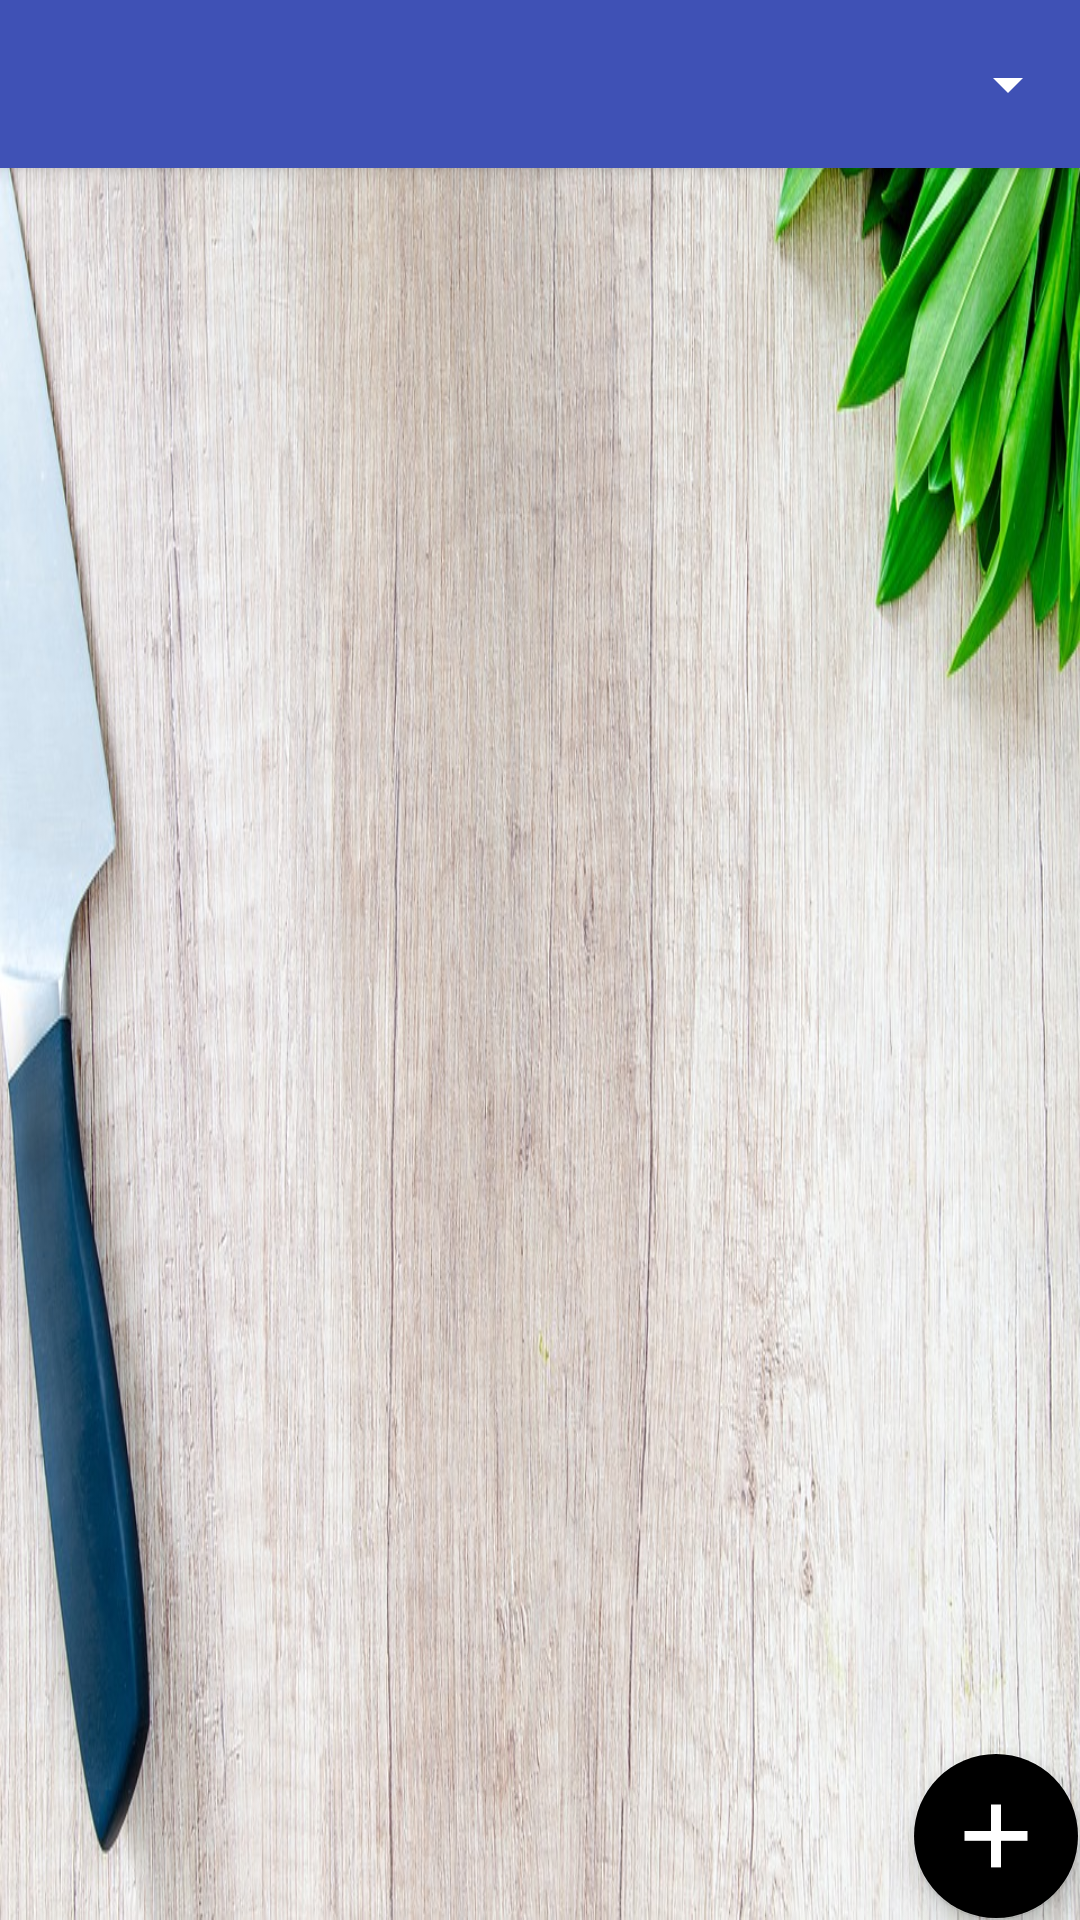

Icon click points for this 1080 x 1920 phone screenshot, format [x,y]:
add: [996,1836]
